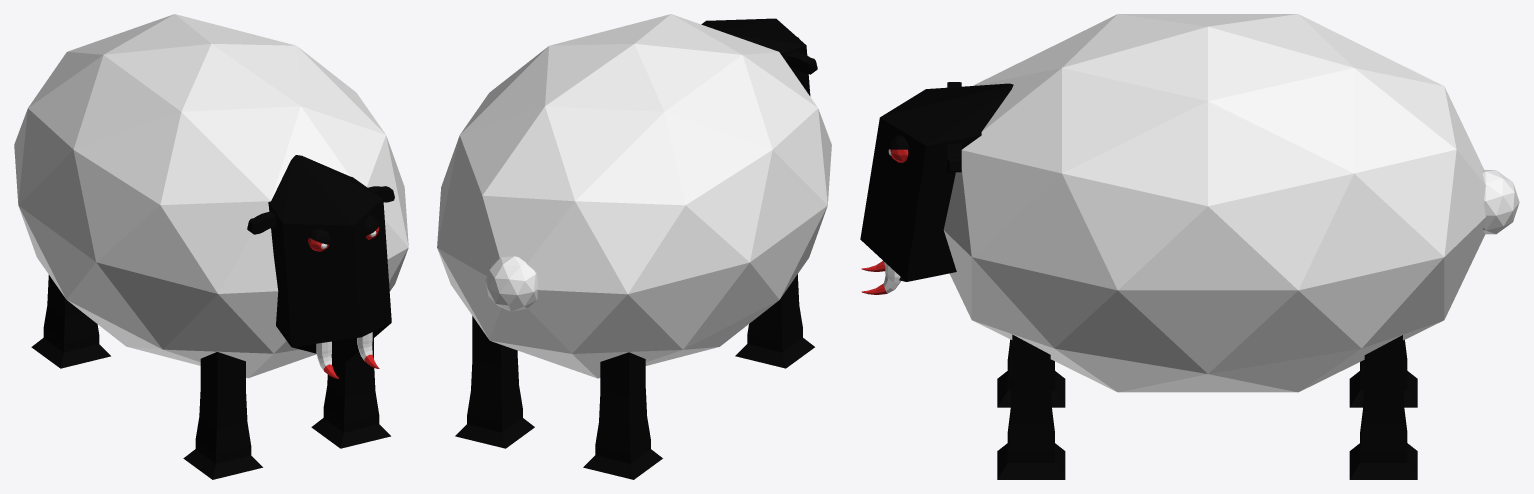
File: OvejaEnemiga.fbx
3 views of the same model, side by side, from view 1: azimuth 30°, elevation 25°; view 2: azimuth 150°, elevation 25°; view 3: azimuth 270°, elevation 25° (orthographic). The views are drawn at different scales.
Visible parts, largest first — view 1: Icosphere.001, Icosphere.007, Cube.001, Cube.003, Cube; view 2: Icosphere.001, Cube, Cube.002, Cube.001, Icosphere.007; view 3: Icosphere.001, Icosphere.007, Cube.003, Cube.002, Cube.001, Cube.
Part boxes in pixels (bbox=[...]): Icosphere.001: bbox=[14, 14, 408, 378]; Icosphere.007: bbox=[247, 155, 394, 378]; Cube.001: bbox=[183, 352, 262, 479]; Cube.003: bbox=[311, 338, 390, 448]; Cube: bbox=[31, 275, 110, 368]; Icosphere.001: bbox=[437, 14, 831, 378]; Cube: bbox=[583, 352, 662, 479]; Cube.002: bbox=[455, 316, 534, 448]; Cube.001: bbox=[735, 274, 814, 368]; Icosphere.007: bbox=[701, 18, 817, 96]; Icosphere.001: bbox=[943, 14, 1519, 392]; Icosphere.007: bbox=[860, 82, 1013, 294]; Cube.003: bbox=[997, 334, 1065, 479]; Cube.002: bbox=[1349, 335, 1417, 479]; Cube.001: bbox=[997, 339, 1065, 407]; Cube: bbox=[1349, 340, 1417, 407].
Bounding box in the file's own units: 150 × 162 × 240.
